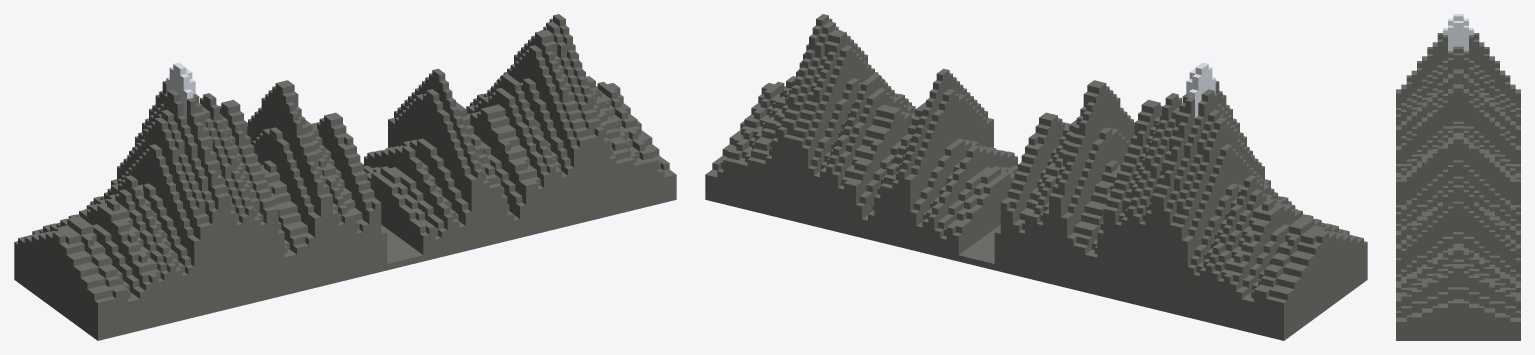
File: ridge.obj
3 renders of one model, left to right at view 1: azimuth 30°, elevation 25°; view 2: azimuth 150°, elevation 25°; view 3: azimuth 270°, elevation 25°, orthographic. The views are drawn at different scales.
Size of the model in its own units: 9.6 by 3.4 by 2.4.
Materials: 1 (1 with a texture image).
